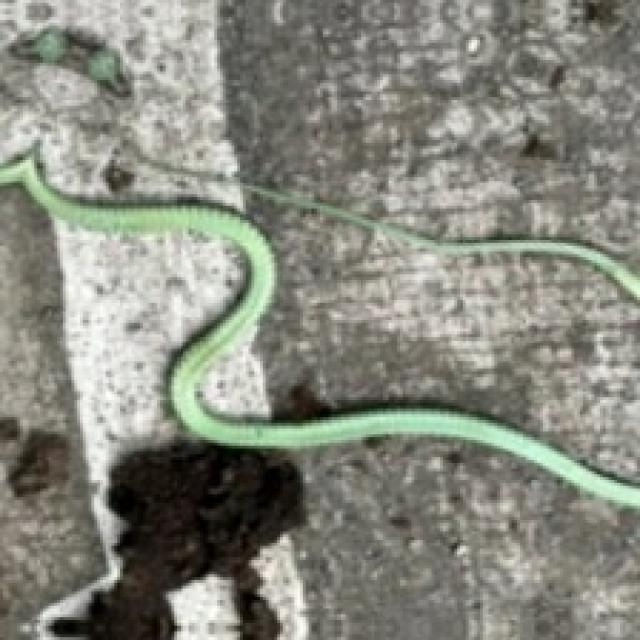philippine bronzeback treesnake: (0, 151, 637, 509), (0, 149, 637, 506), (246, 186, 637, 300)
